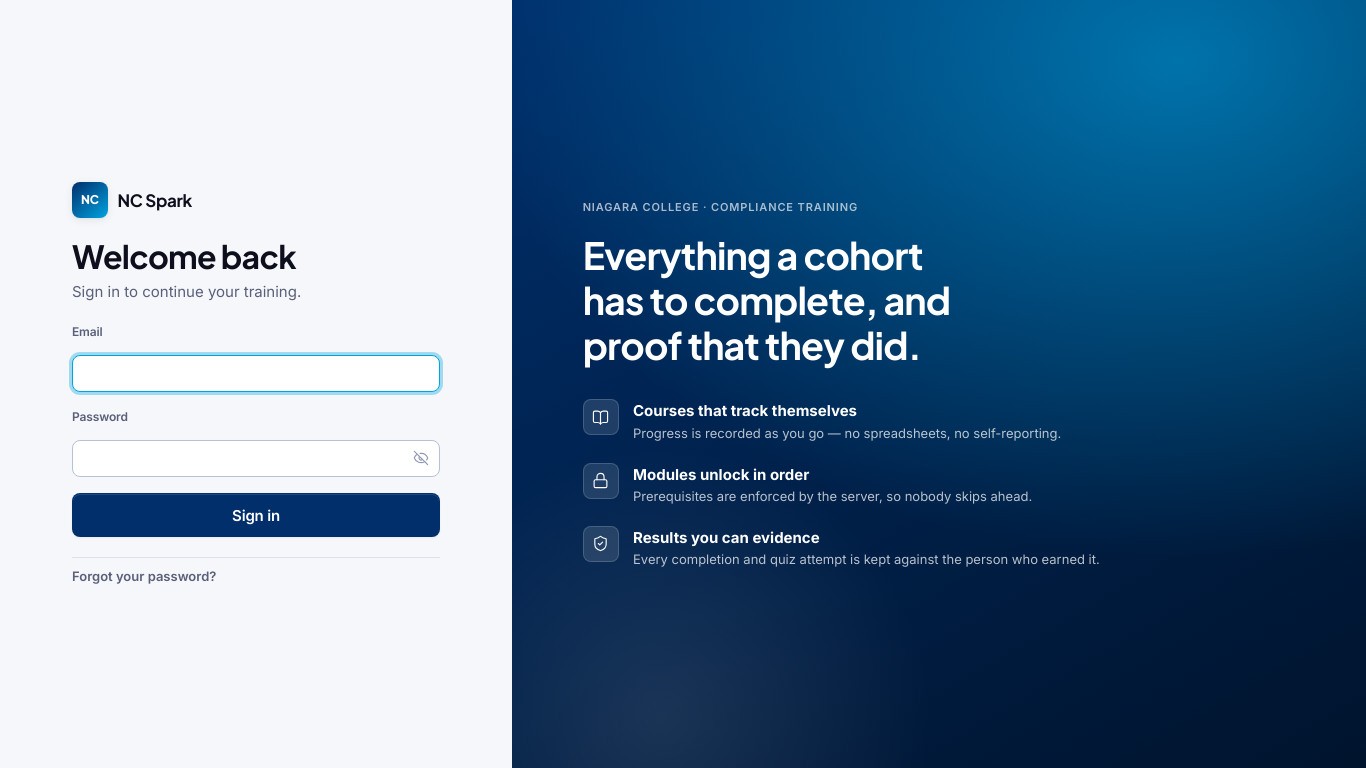
it: LoginPage › disables the button while submitting
Type "a@b.com" into the field labelled "Email" at (256, 374), box x1=72 y1=355 x2=440 y2=392
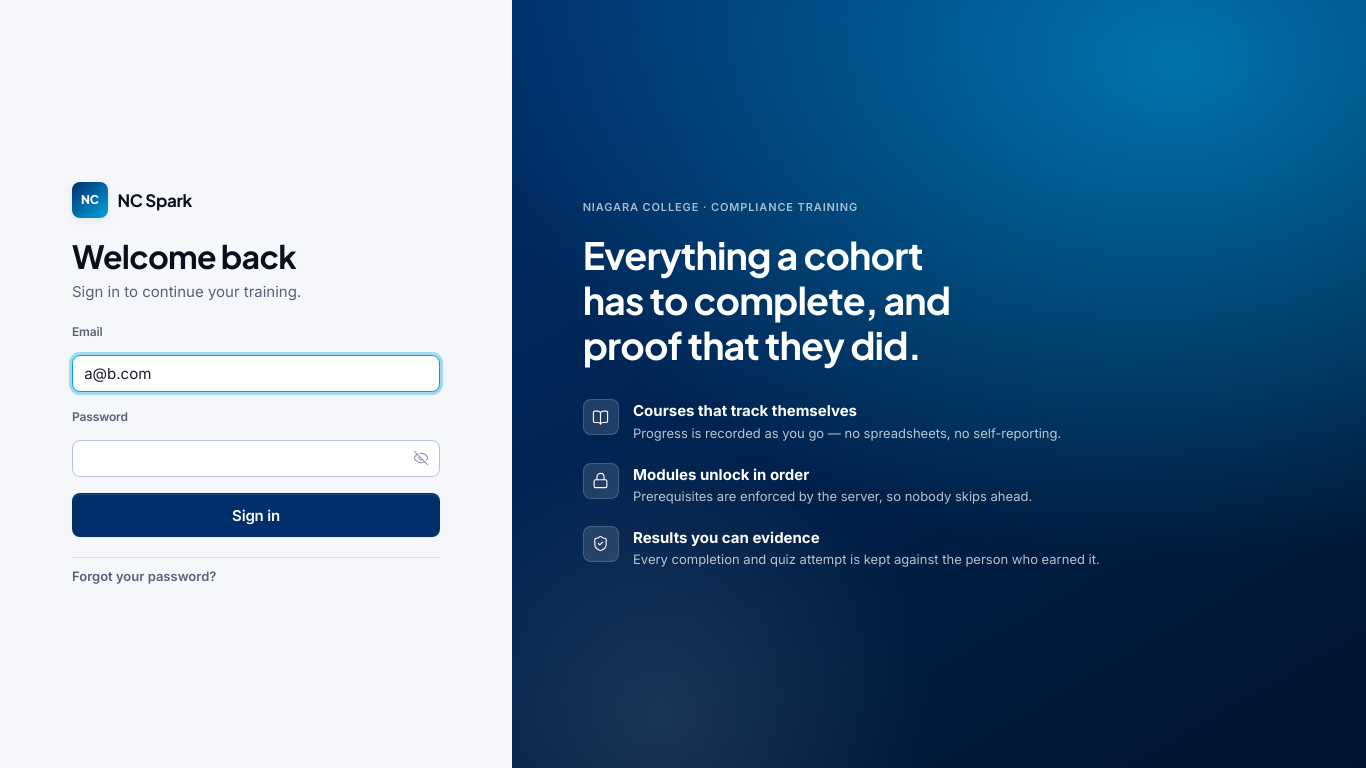
Type "pw" into the password field labelled "Password" at (256, 458), box x1=72 y1=440 x2=440 y2=477
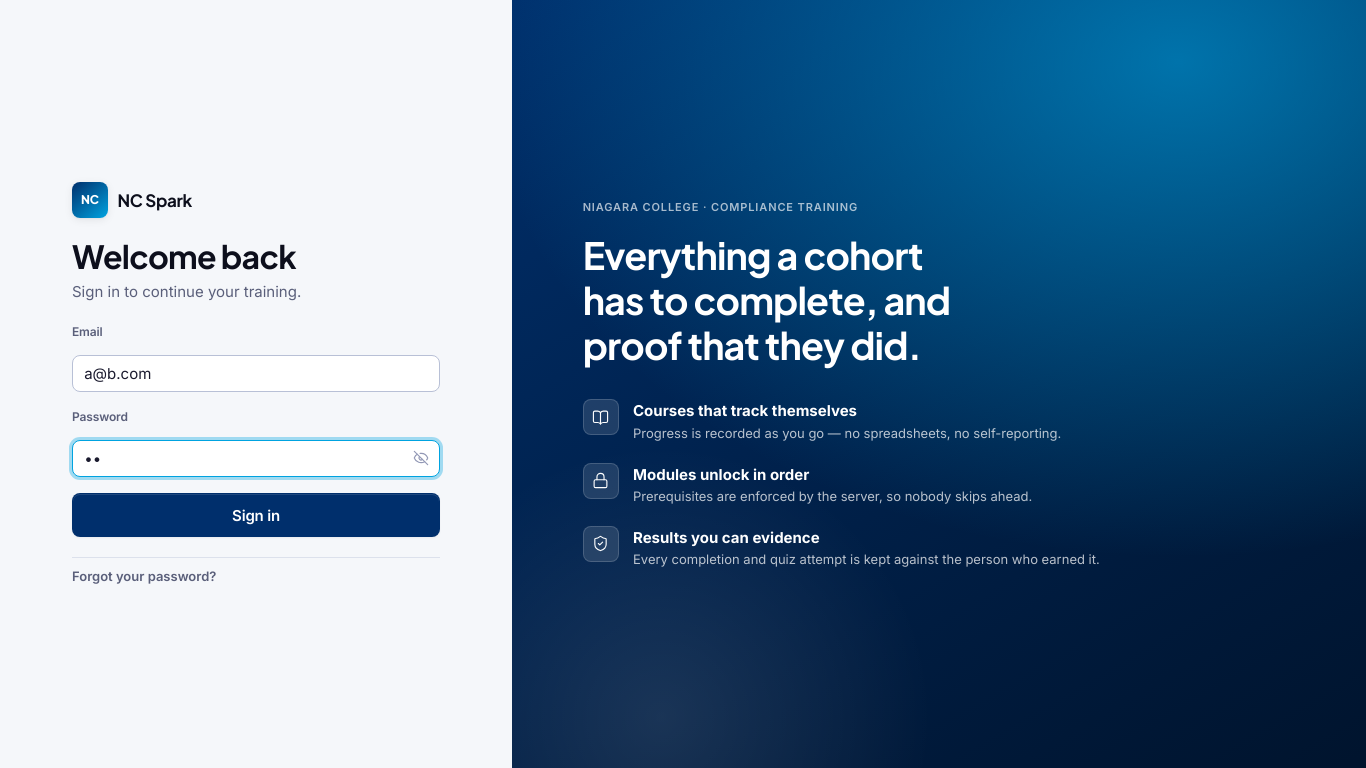
Click the button "Sign in" at (256, 515), box x1=72 y1=493 x2=440 y2=537
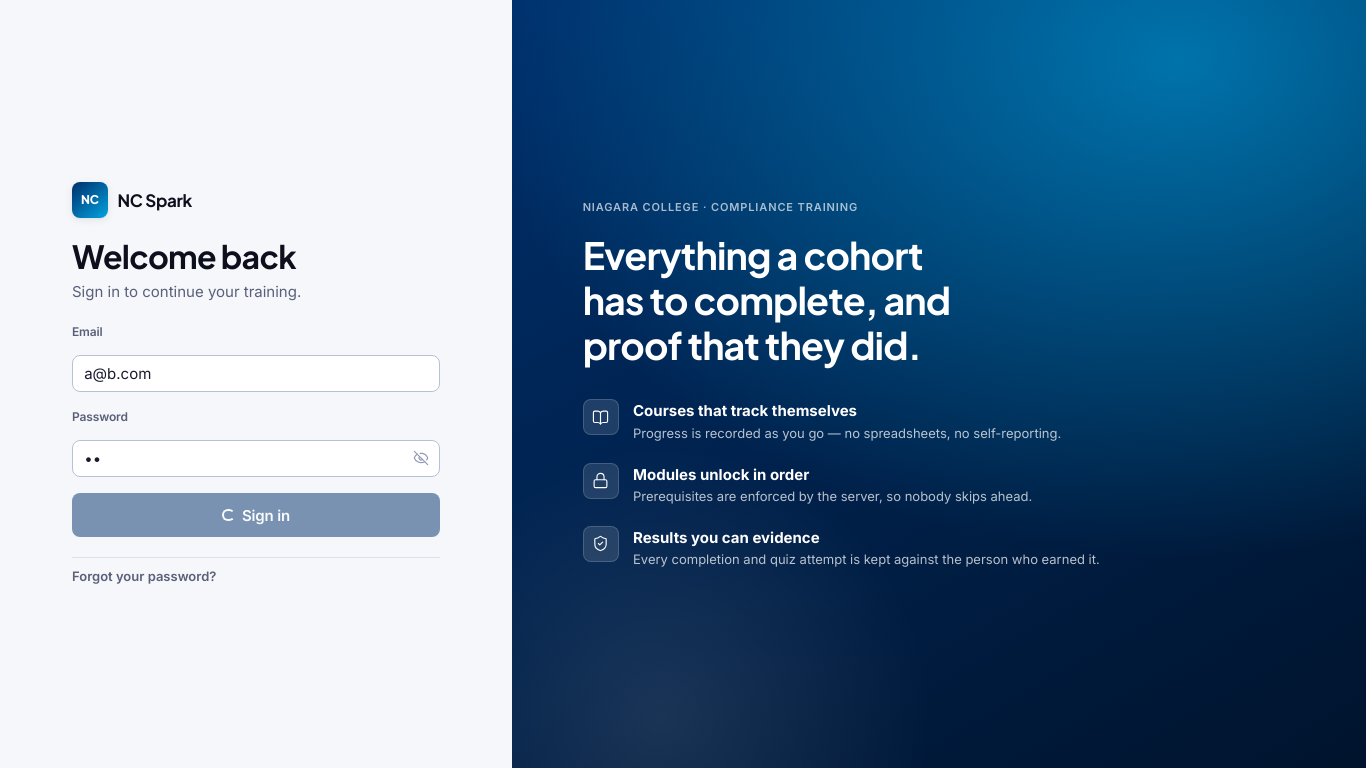
expect the button "Sign in" is disabled: met, box x1=72 y1=493 x2=440 y2=537
